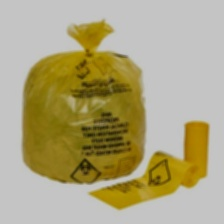plastic_bag: (11, 11, 156, 189), (87, 148, 203, 212), (175, 112, 215, 182)
